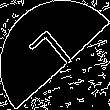L_SE: (28, 26, 82, 84)
